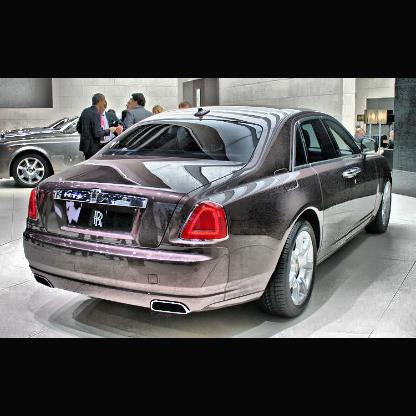Rolls-Royce Ghost Sedan 2012: (21, 103, 393, 320)
